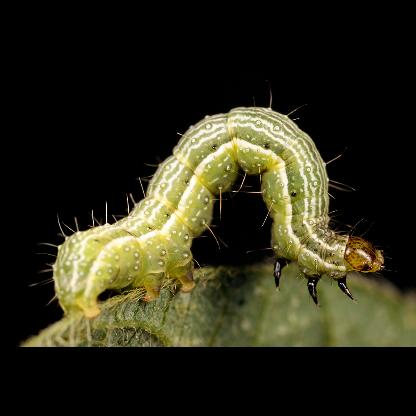oruga: (41, 104, 382, 320)
